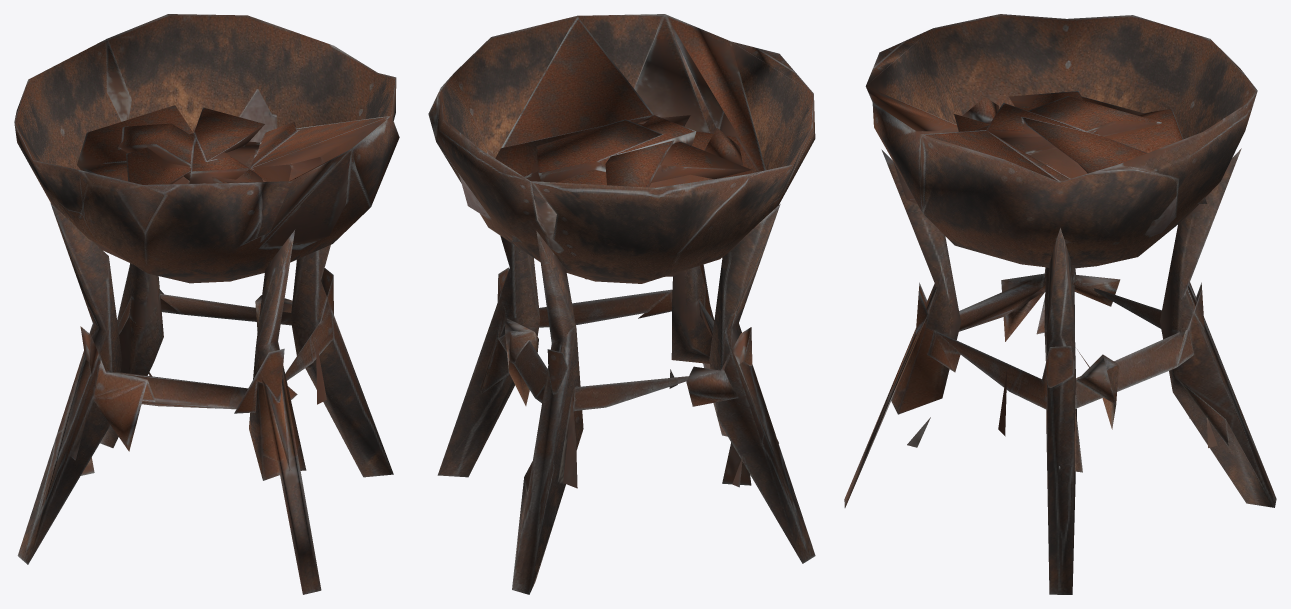
File: goblin-ember-brazier.glb
The picture shows the model from 3 angles, left to right: view 1: azimuth 30°, elevation 25°; view 2: azimuth 150°, elevation 25°; view 3: azimuth 270°, elevation 25°; orthographic projection.
Bounding box in the file's own units: 0.9098 × 1 × 0.914.
1 material, 1 textured.
